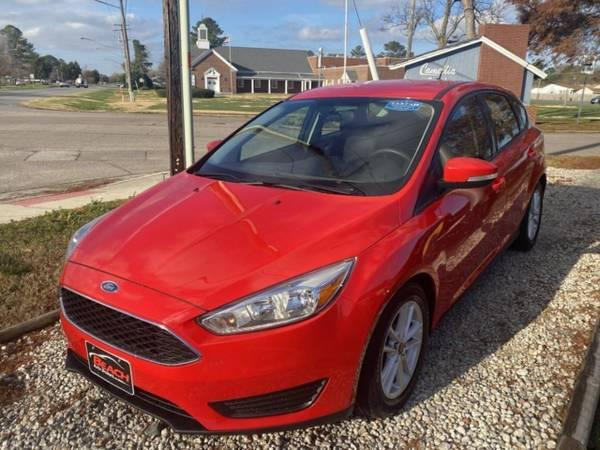Front_Bumper: (62, 308, 369, 430)
Front_Fender: (328, 217, 438, 332)
Front_Left_Door: (419, 160, 511, 321)
Front_Left_Window: (412, 94, 498, 217)
Front_Windshield: (186, 99, 444, 198)
Grille: (53, 283, 197, 362)
Hood: (64, 174, 403, 321)
Left_Headlight: (201, 259, 356, 336)
Rear_Left_Door: (497, 127, 545, 236)
Rear_Left_Window: (483, 92, 532, 156)
Right_Headlight: (67, 218, 107, 261)
Roof: (283, 78, 517, 217)
Wheel: (361, 285, 431, 409), (521, 189, 546, 244)
